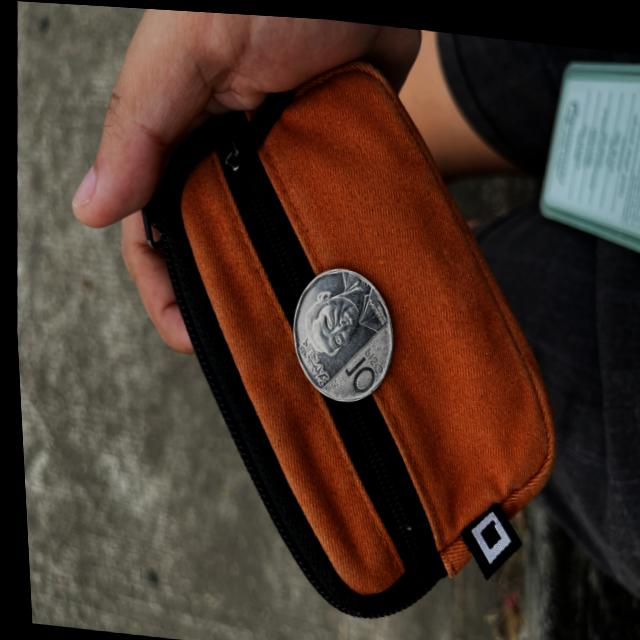10_New_Front: (334, 339, 380, 390)
